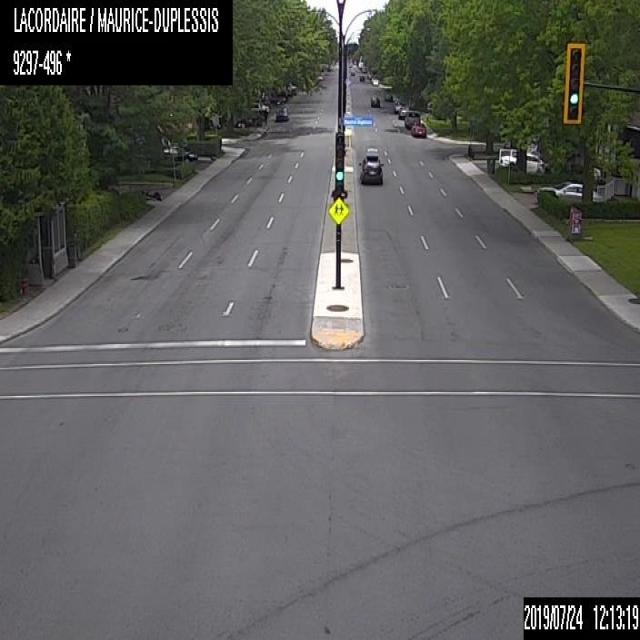vehicle: (357, 151, 384, 185), (404, 109, 420, 128), (410, 121, 426, 136), (276, 104, 289, 121), (398, 105, 412, 118), (392, 100, 406, 112), (369, 95, 381, 106)
